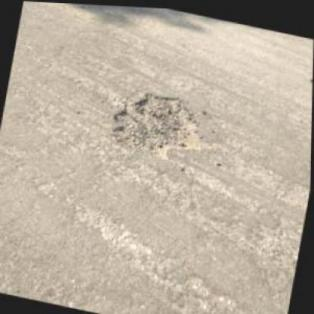Hueco: (105, 80, 221, 169)
